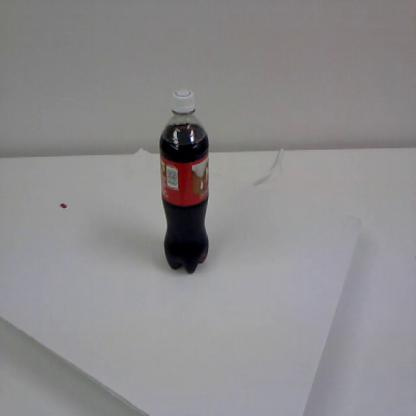bottle: (157, 88, 211, 276)
